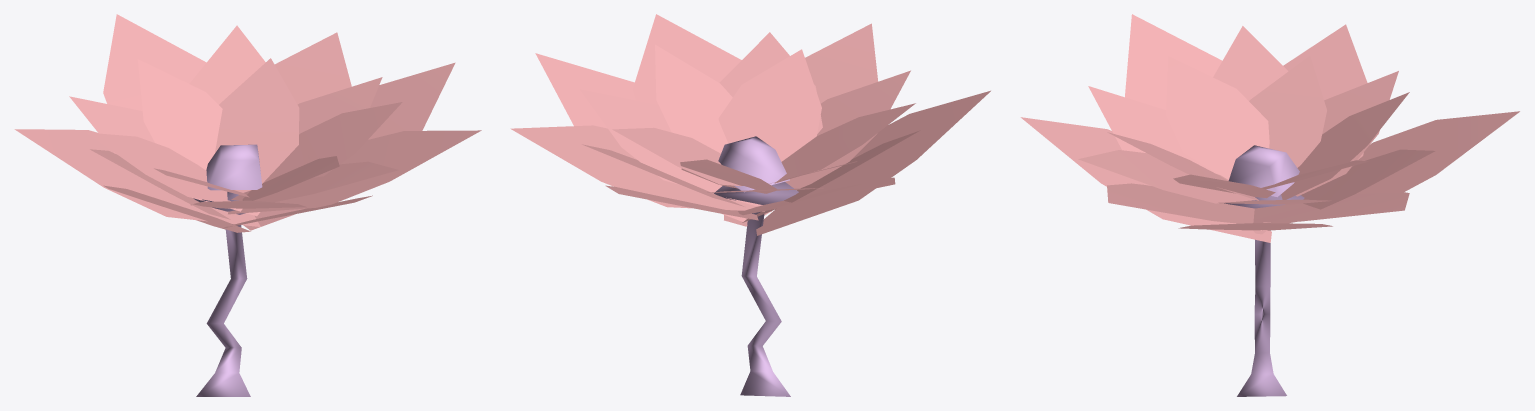
The model's file is Flower_LODS.fbx.
The picture shows the model from 3 angles, left to right: view 1: azimuth 30°, elevation 25°; view 2: azimuth 150°, elevation 25°; view 3: azimuth 270°, elevation 25°; orthographic projection. The views are drawn at different scales.
Visible parts, largest first — view 1: Flower_LOD0; view 2: Flower_LOD0; view 3: Flower_LOD0.
Part boxes in pixels (bbox=[...]): Flower_LOD0: bbox=[14, 14, 481, 396]; Flower_LOD0: bbox=[510, 14, 990, 396]; Flower_LOD0: bbox=[1020, 14, 1519, 396].
Size of what is drawn, in the model's own units: 350 by 242 by 371.
